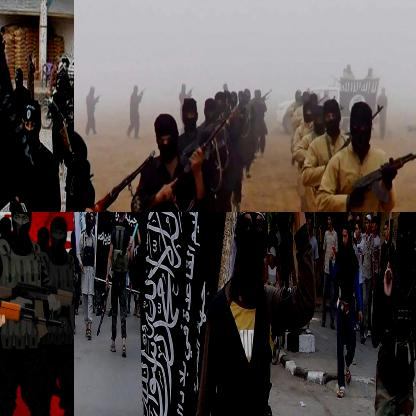rifle: (138, 116, 228, 211), (74, 146, 159, 211), (0, 286, 69, 366), (346, 147, 415, 211), (8, 280, 73, 333), (58, 123, 73, 211), (95, 282, 110, 346), (385, 212, 396, 286), (74, 228, 81, 285)
